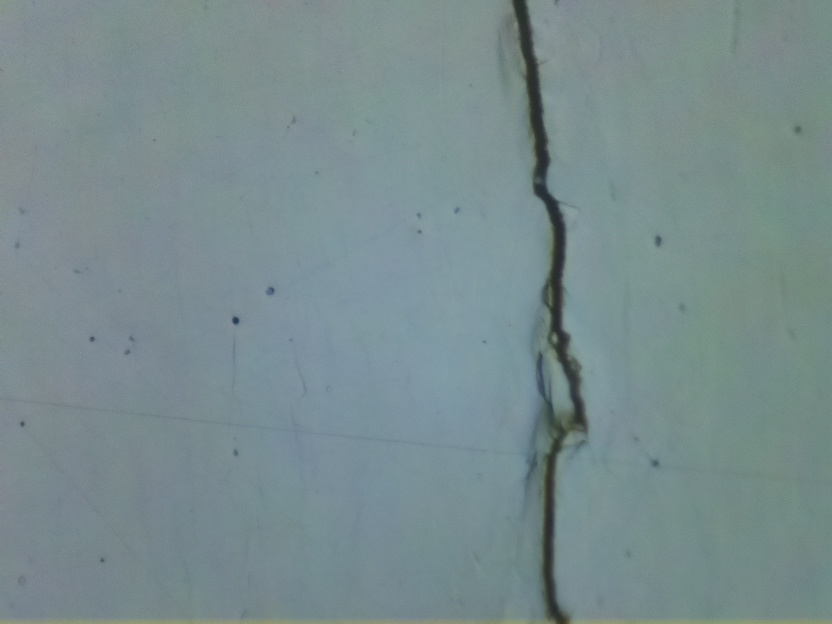crack: (511, 0, 587, 624)
